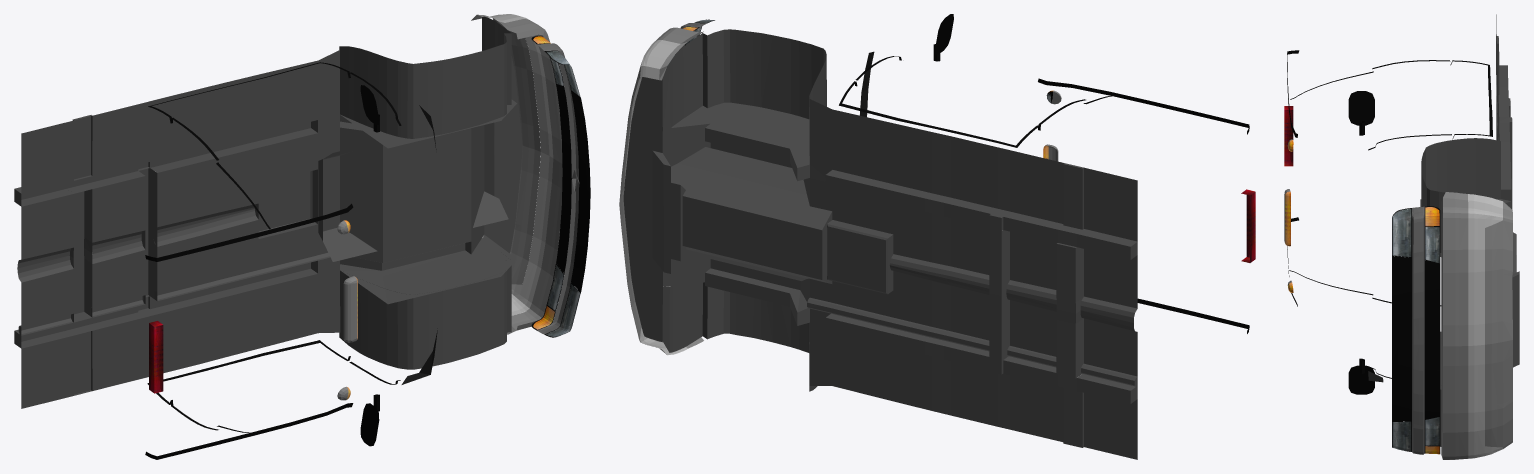
Rendered from details.obj.
3 renders of one model, left to right at view 1: azimuth 30°, elevation 25°; view 2: azimuth 150°, elevation 25°; view 3: azimuth 270°, elevation 25°, orthographic. The views are drawn at different scales.
Visible parts, largest first — view 1: Object15, 1_-_Default, 3_-_Default, 2_-_Default, map, 4_-_Default; view 2: Object15, 3_-_Default, 1_-_Default, 2_-_Default, map; view 3: 1_-_Default, 3_-_Default, Object15, 2_-_Default, map, 4_-_Default.
Boxes of the visible parts, x1,y1,x2,y2 form: Object15: (14,16,522,408); 1_-_Default: (337,15,562,400); 3_-_Default: (145,36,590,459); 2_-_Default: (477,14,553,315); map: (149,36,580,399); 4_-_Default: (537,43,579,334); Object15: (623,29,1137,459); 3_-_Default: (675,14,1249,333); 1_-_Default: (619,27,1061,354); 2_-_Default: (624,40,687,355); map: (667,20,1255,262); 1_-_Default: (1284,139,1512,459); 3_-_Default: (1287,50,1492,453); Object15: (1420,14,1519,446); 2_-_Default: (1468,194,1502,458); map: (1284,106,1439,454); 4_-_Default: (1412,206,1424,454).
Size of the model in its own units: 3.47 by 2.29 by 1.61.
8 materials, 1 textured.
